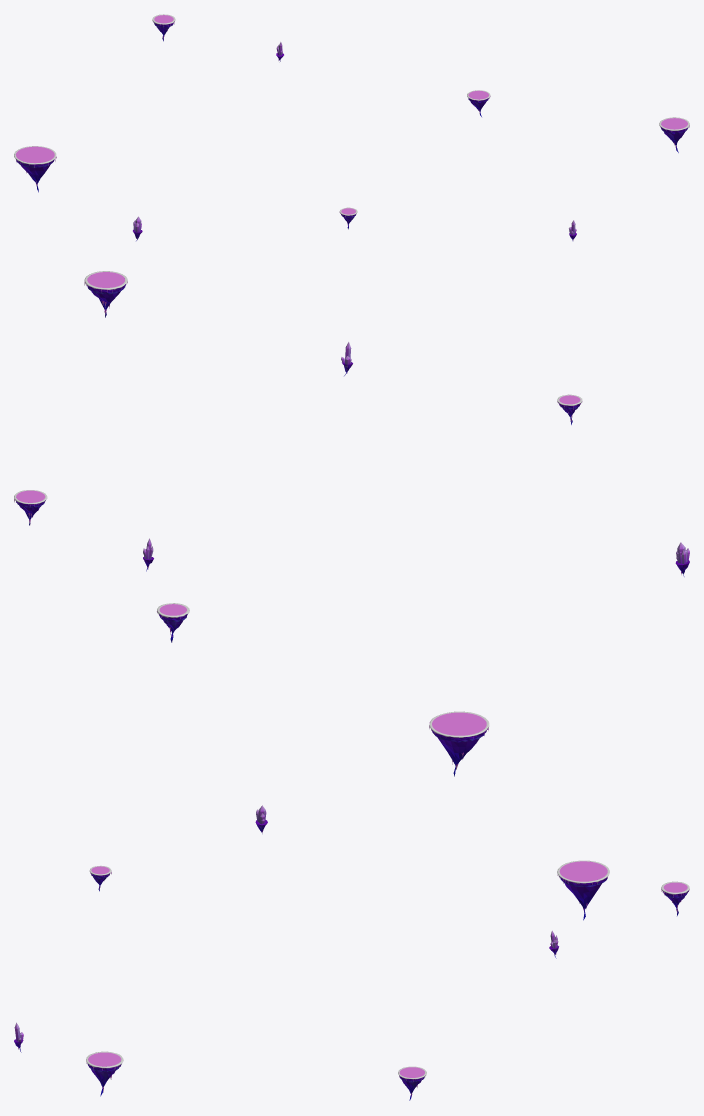
Rendered from Arena_Backdrop.fbx.
The picture shows the model from 3 angles, top to bottom: view 1: azimuth 30°, elevation 25°; view 2: azimuth 150°, elevation 25°; view 3: azimuth 270°, elevation 25°; orthographic projection. The views are drawn at different scales.
Visible parts, largest first — view 1: Floe_B_2, Floe_A_6; view 2: Floe_B_2, Floe_A_6; view 3: Floe_B_2, Floe_A_6, Floe_A_0, Floe_C_7.
Part boxes in pixels (x1,y1,x2,y2): Floe_B_2: [14, 146, 56, 192]; Floe_A_6: [659, 117, 689, 152]; Floe_B_2: [429, 711, 489, 776]; Floe_A_6: [84, 271, 127, 317]; Floe_B_2: [557, 860, 609, 920]; Floe_A_6: [86, 1051, 123, 1096]; Floe_A_0: [398, 1066, 426, 1100]; Floe_C_7: [661, 881, 689, 915].
Bounding box in the file's own units: 159 × 32.91 × 154.
